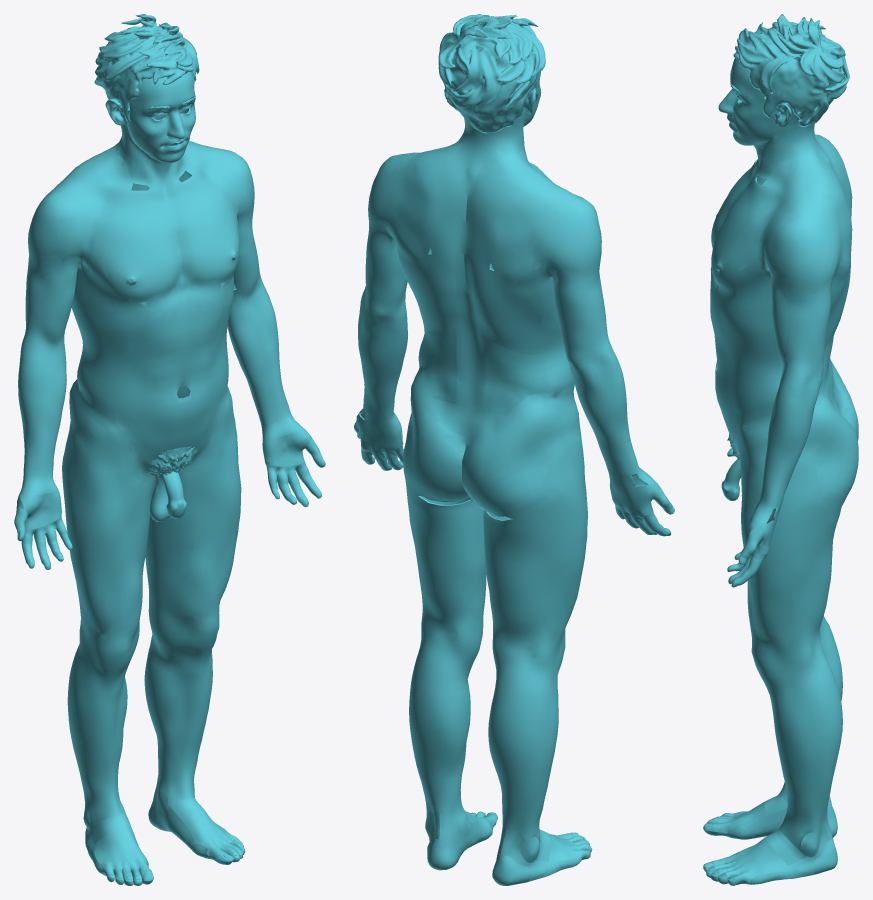
Rendered from z-anatomy-1.4.0-regional-anatomy.glb.
3 views of the same model, side by side, from view 1: azimuth 30°, elevation 25°; view 2: azimuth 150°, elevation 25°; view 3: azimuth 270°, elevation 25° (orthographic). The views are drawn at different scales.
Parts seen in each view (by area): view 1: body-shell__Anterior region of thigh.r, body-shell__Anterior region of thigh.l, body-shell__Hairs of head, body-shell__Anterior region of leg.l, body-shell__Anterior region of leg.r, body-shell__Pectoral region.r, body-shell__Deltoid region.r, body-shell__Anterior region of forearm.l, body-shell__Anterior region of forearm.r, body-shell__Lateral region of thorax.r, body-shell__Lateral region of abdomen.r, body-shell__Pectoral region.l (+46 smaller); view 2: body-shell__Posterior region of thigh.r, body-shell__Hairs of head, body-shell__Gluteal region.r, body-shell__Posterior region of thigh.l, body-shell__Posterior region of leg.r, body-shell__Posterior region of leg.l, body-shell__Gluteal region.l, body-shell__Scapular region.r, body-shell__Posterior region of arm.r, body-shell__Infrascapular region.r, body-shell__Scapular region.l, body-shell__Posterior region of forearm.r (+32 smaller); view 3: body-shell__Hairs of head, body-shell__Anterior region of thigh.l, body-shell__Posterior region of thigh.l, body-shell__Deltoid region.l, body-shell__Gluteal region.l, body-shell__Posterior region of leg.l, body-shell__Lateral region of thorax.l, body-shell__Anterior region of leg.l, body-shell__Lateral region of abdomen.l, body-shell__Pectoral region.l, body-shell__Posterior region of arm.l, body-shell__Posterior region of neck.l (+45 smaller).
Boxes of the visible parts, bbox=[...] form: body-shell__Anterior region of thigh.r: bbox=[69, 382, 154, 636]; body-shell__Anterior region of thigh.l: bbox=[150, 383, 241, 615]; body-shell__Hairs of head: bbox=[94, 14, 199, 123]; body-shell__Anterior region of leg.l: bbox=[153, 654, 212, 780]; body-shell__Anterior region of leg.r: bbox=[74, 674, 127, 799]; body-shell__Pectoral region.r: bbox=[94, 205, 174, 302]; body-shell__Deltoid region.r: bbox=[28, 174, 90, 271]; body-shell__Anterior region of forearm.l: bbox=[228, 304, 292, 425]; body-shell__Anterior region of forearm.r: bbox=[22, 360, 66, 481]; body-shell__Lateral region of thorax.r: bbox=[71, 225, 147, 333]; body-shell__Lateral region of abdomen.r: bbox=[77, 342, 147, 422]; body-shell__Pectoral region.l: bbox=[183, 179, 238, 284]; body-shell__Posterior region of thigh.r: bbox=[483, 496, 579, 640]; body-shell__Hairs of head: bbox=[438, 14, 545, 133]; body-shell__Gluteal region.r: bbox=[462, 392, 567, 518]; body-shell__Posterior region of thigh.l: bbox=[404, 472, 485, 624]; body-shell__Posterior region of leg.r: bbox=[488, 688, 555, 830]; body-shell__Posterior region of leg.l: bbox=[409, 667, 468, 813]; body-shell__Gluteal region.l: bbox=[403, 360, 470, 501]; body-shell__Scapular region.r: bbox=[486, 191, 559, 287]; body-shell__Posterior region of arm.r: bbox=[543, 242, 606, 348]; body-shell__Infrascapular region.r: bbox=[475, 273, 545, 354]; body-shell__Scapular region.l: bbox=[379, 164, 436, 266]; body-shell__Posterior region of forearm.r: bbox=[570, 368, 640, 475]; body-shell__Hairs of head: bbox=[733, 14, 849, 126]; body-shell__Anterior region of thigh.l: bbox=[738, 407, 787, 646]; body-shell__Posterior region of thigh.l: bbox=[783, 506, 841, 645]; body-shell__Deltoid region.l: bbox=[763, 197, 834, 297]; body-shell__Gluteal region.l: bbox=[798, 395, 858, 509]; body-shell__Posterior region of leg.l: bbox=[798, 679, 842, 822]; body-shell__Lateral region of thorax.l: bbox=[715, 229, 846, 343]; body-shell__Anterior region of leg.l: bbox=[770, 696, 806, 822]; body-shell__Lateral region of abdomen.l: bbox=[723, 347, 782, 414]; body-shell__Pectoral region.l: bbox=[711, 197, 769, 291]; body-shell__Posterior region of arm.l: bbox=[799, 248, 839, 364]; body-shell__Posterior region of neck.l: bbox=[784, 120, 834, 199].
Size of the model in its own units: 0.6801 by 1.74 by 0.294.
